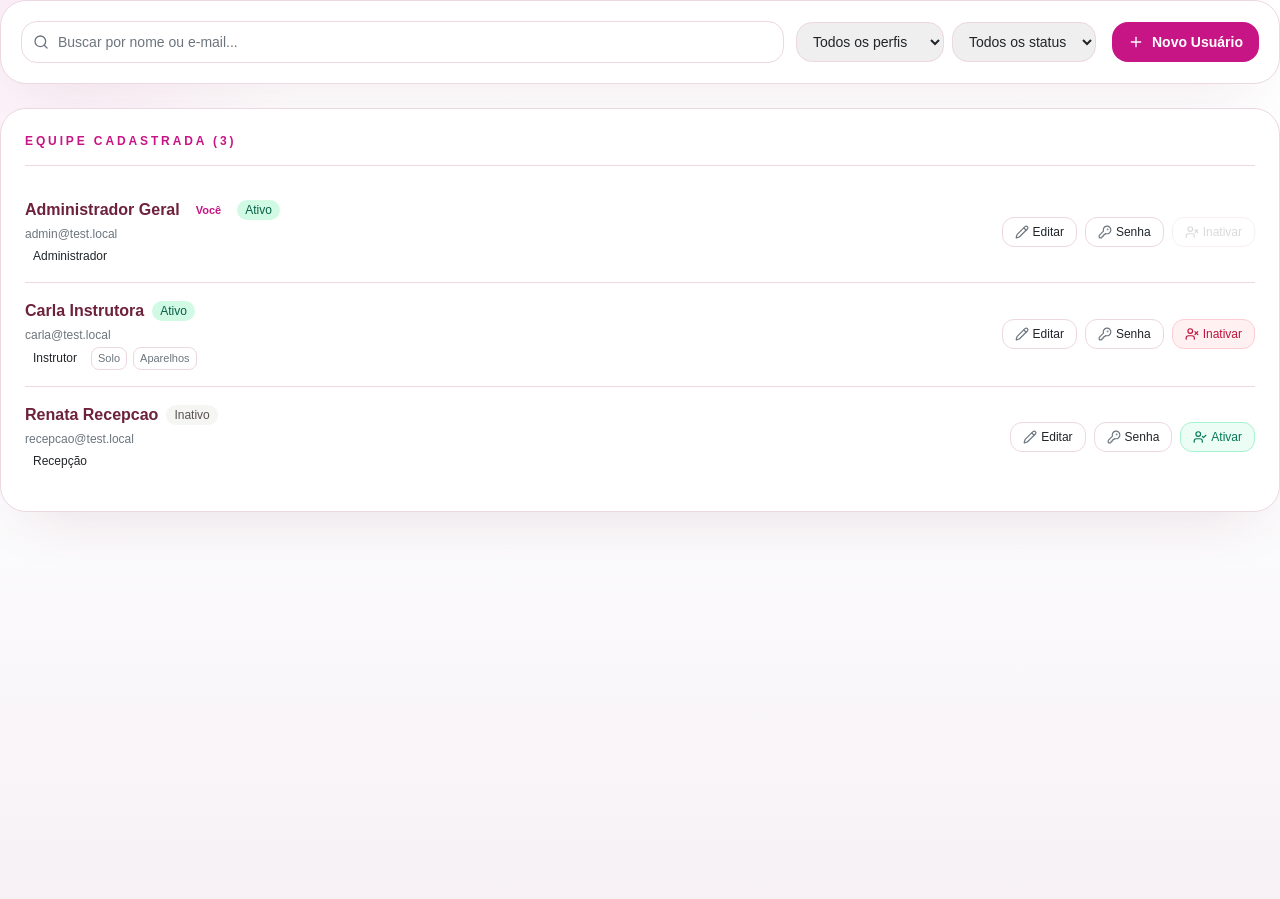
Test case: UsersManagementPanel › trata erro da API de forma graciosa sem perder o formulario
The image size is (1280, 899).
Step 1. Click the button "Novo Usuário" → (1186, 42), box 1112,22 -> 1259,62
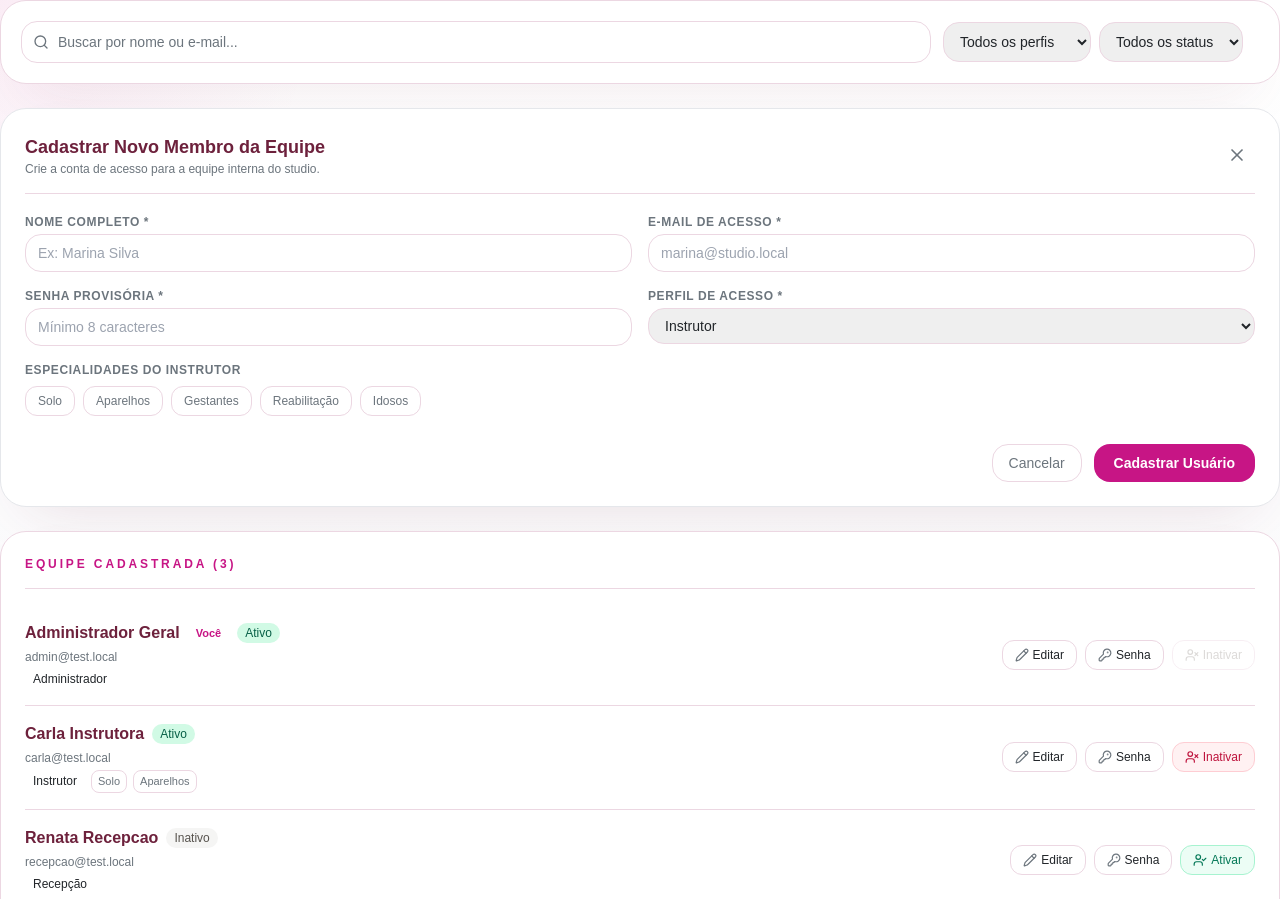
Step 2. Type "Instrutor Duplicado" into the field with placeholder "Ex: Marina Silva" → (328, 253), box 25,234 -> 632,272
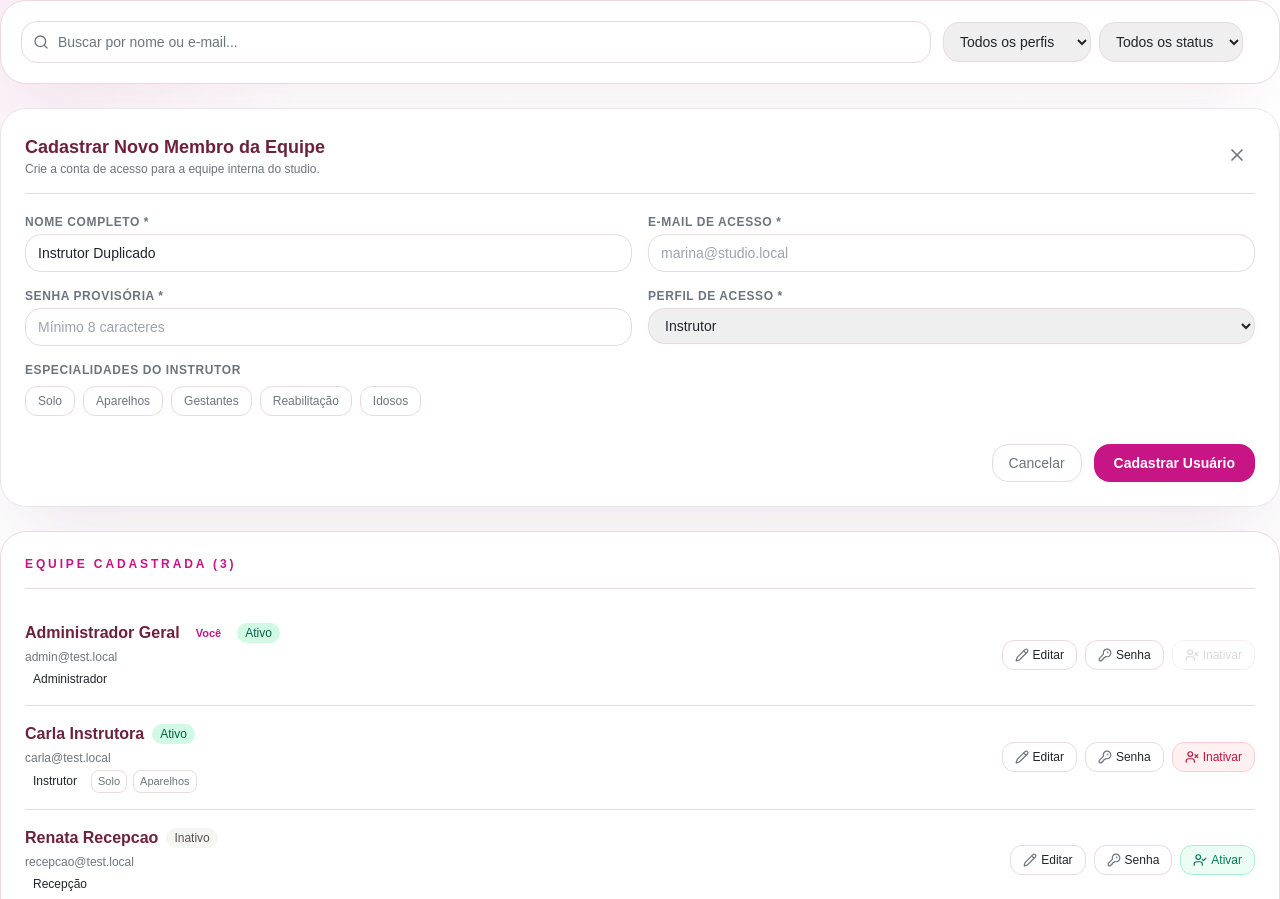
Step 3. Type "duplicado@studio.local" into the field with placeholder "marina@studio.local" → (952, 253), box 648,234 -> 1255,272
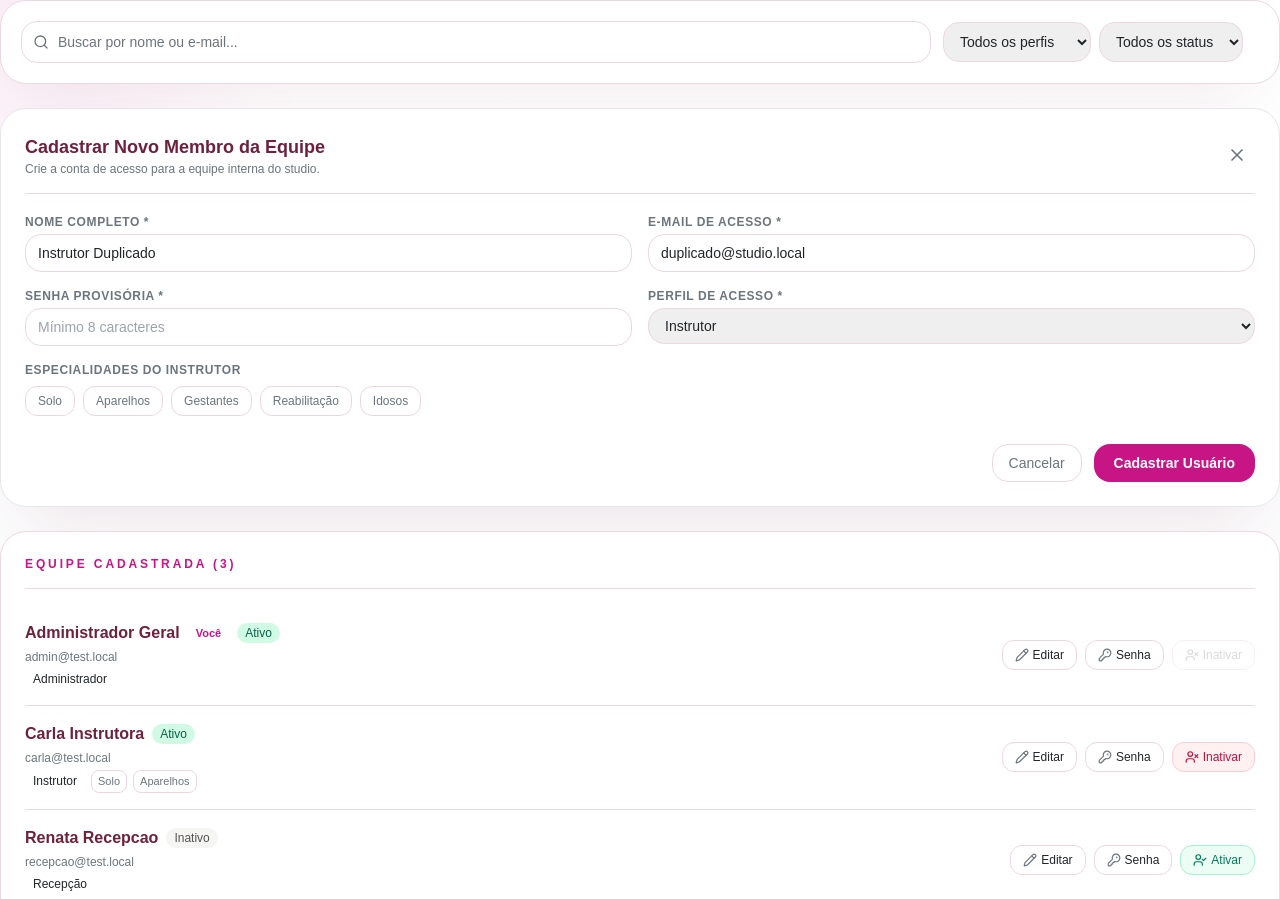
Step 4. Type "Senha12345" into the password field with placeholder "Mínimo 8 caracteres" → (328, 327), box 25,308 -> 632,346
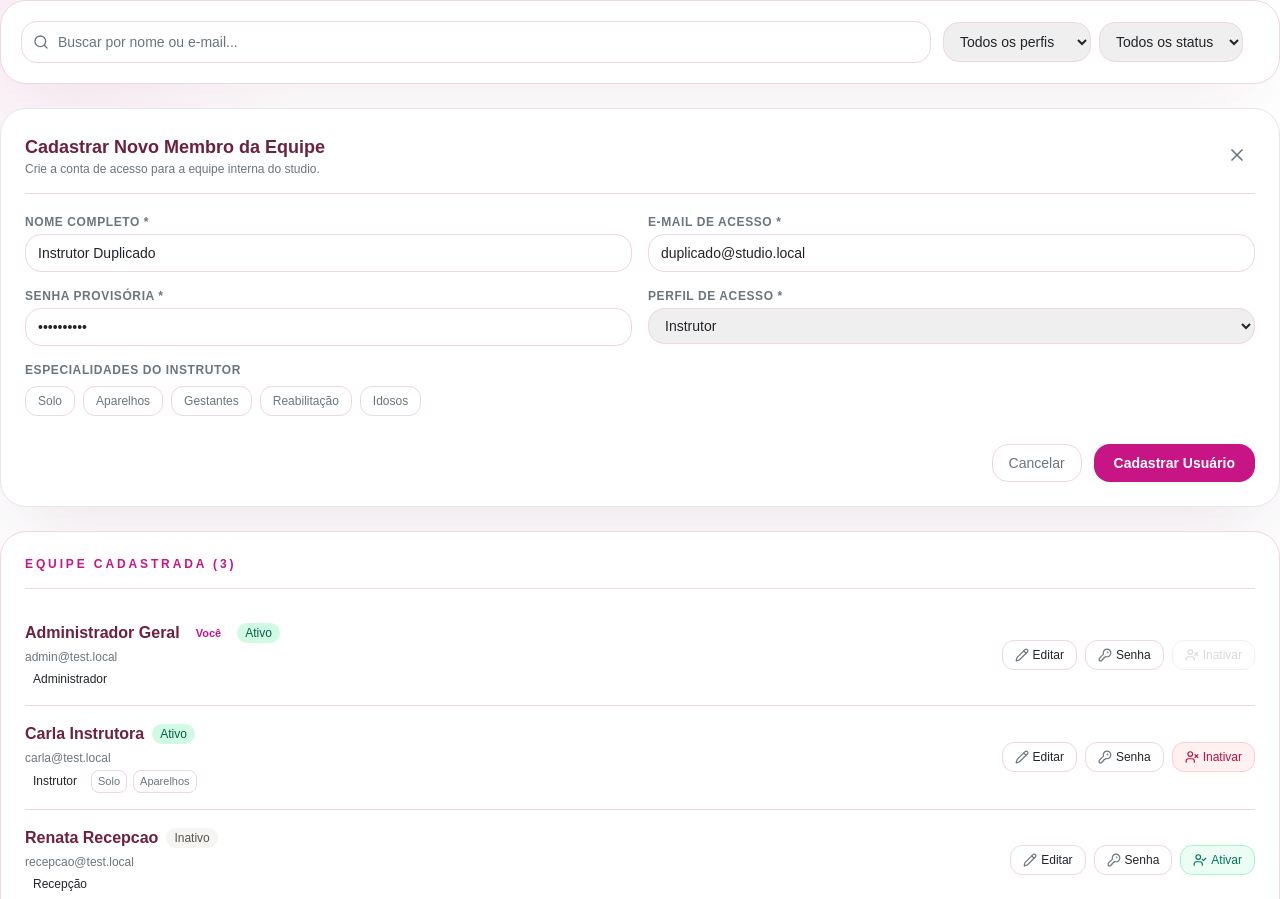
Step 5. Click the button "Cadastrar Usuário" → (1174, 463), box 1094,444 -> 1255,482
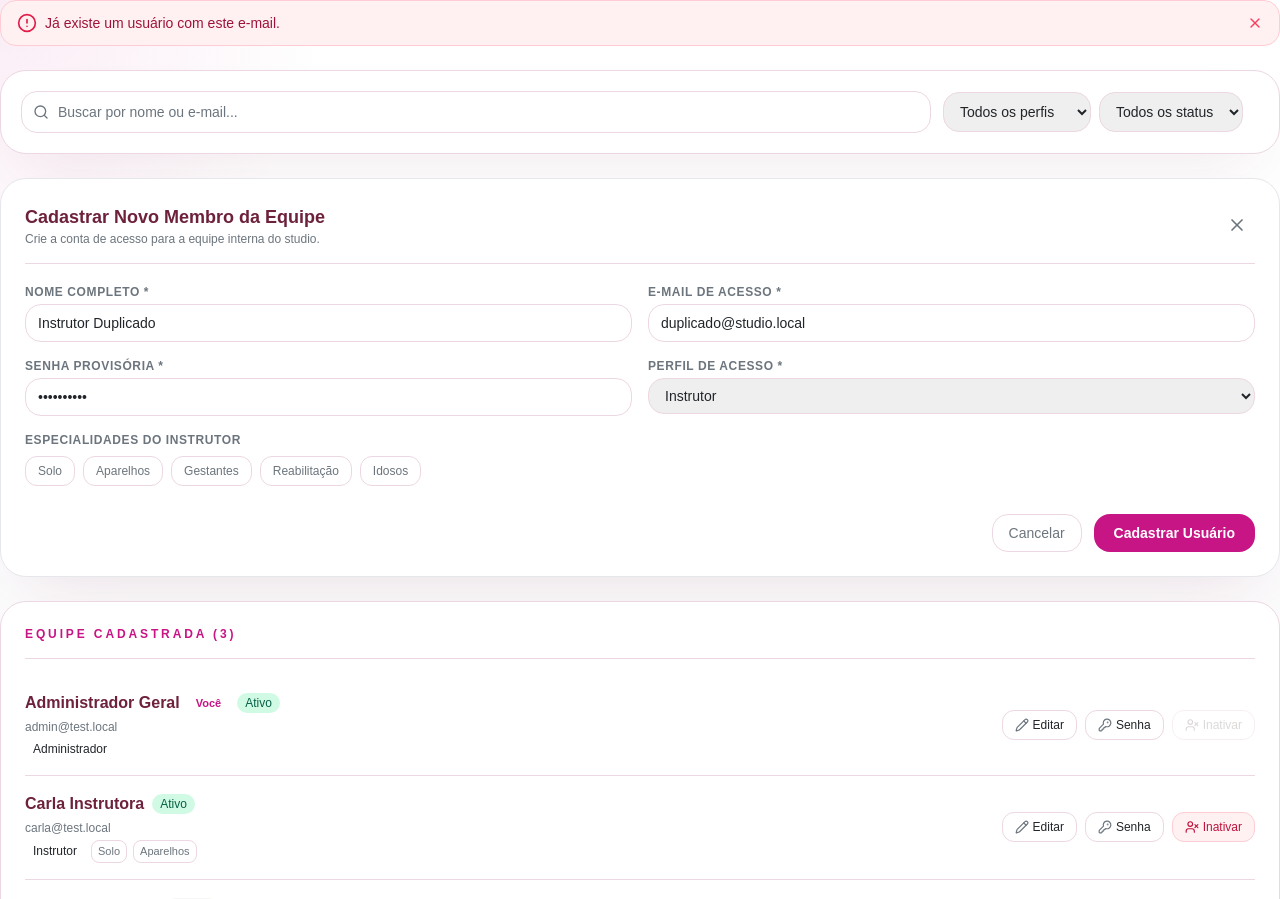
Now the message reads "Já existe um usuário com este e-mail.", box 45,15 -> 280,31
